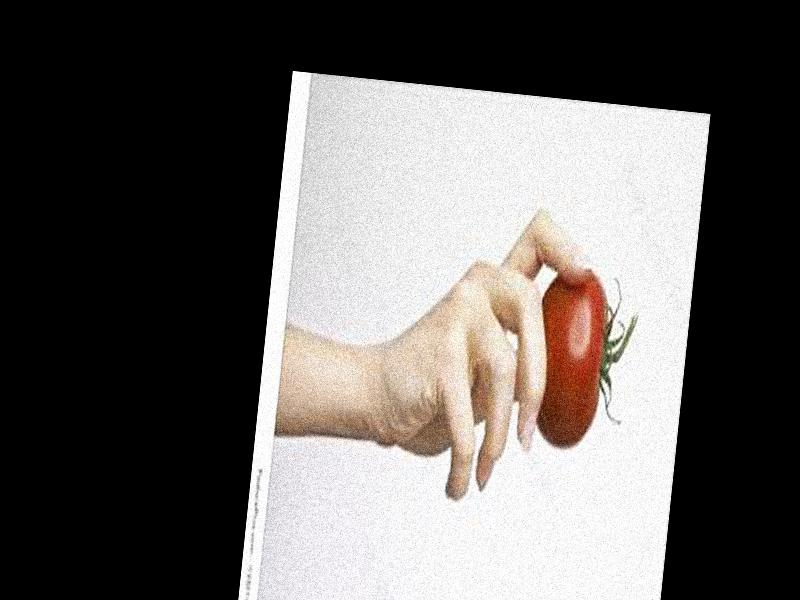Tomato: (528, 267, 640, 452)
